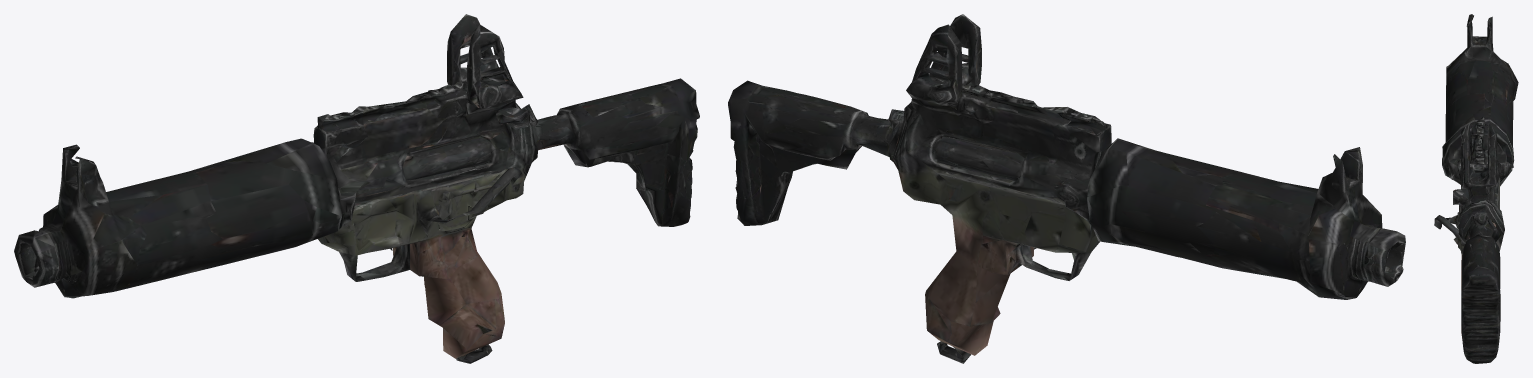
The model's file is gun_thumper_lo.glb.
3 views of the same model, side by side, from view 1: azimuth 30°, elevation 25°; view 2: azimuth 150°, elevation 25°; view 3: azimuth 270°, elevation 25° (orthographic). The views are drawn at different scales.
Size of the model in its own units: 1.9 by 0.9348 by 0.3069.
1 material, 1 textured.
